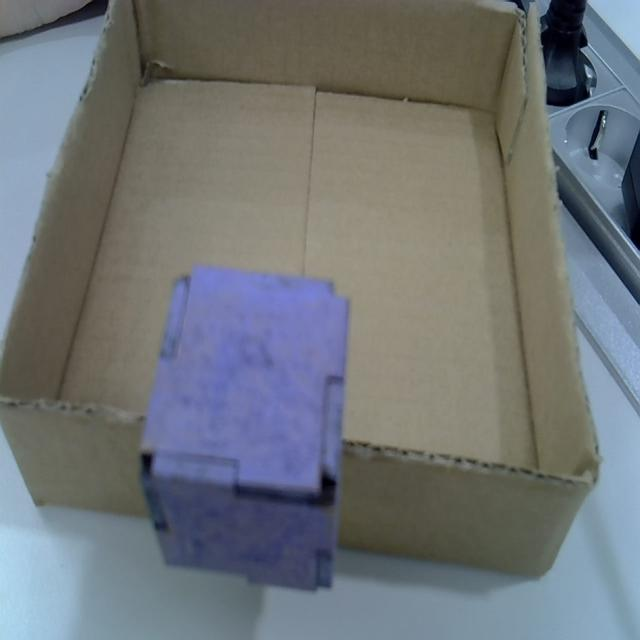purple_box: (140, 264, 350, 590)
